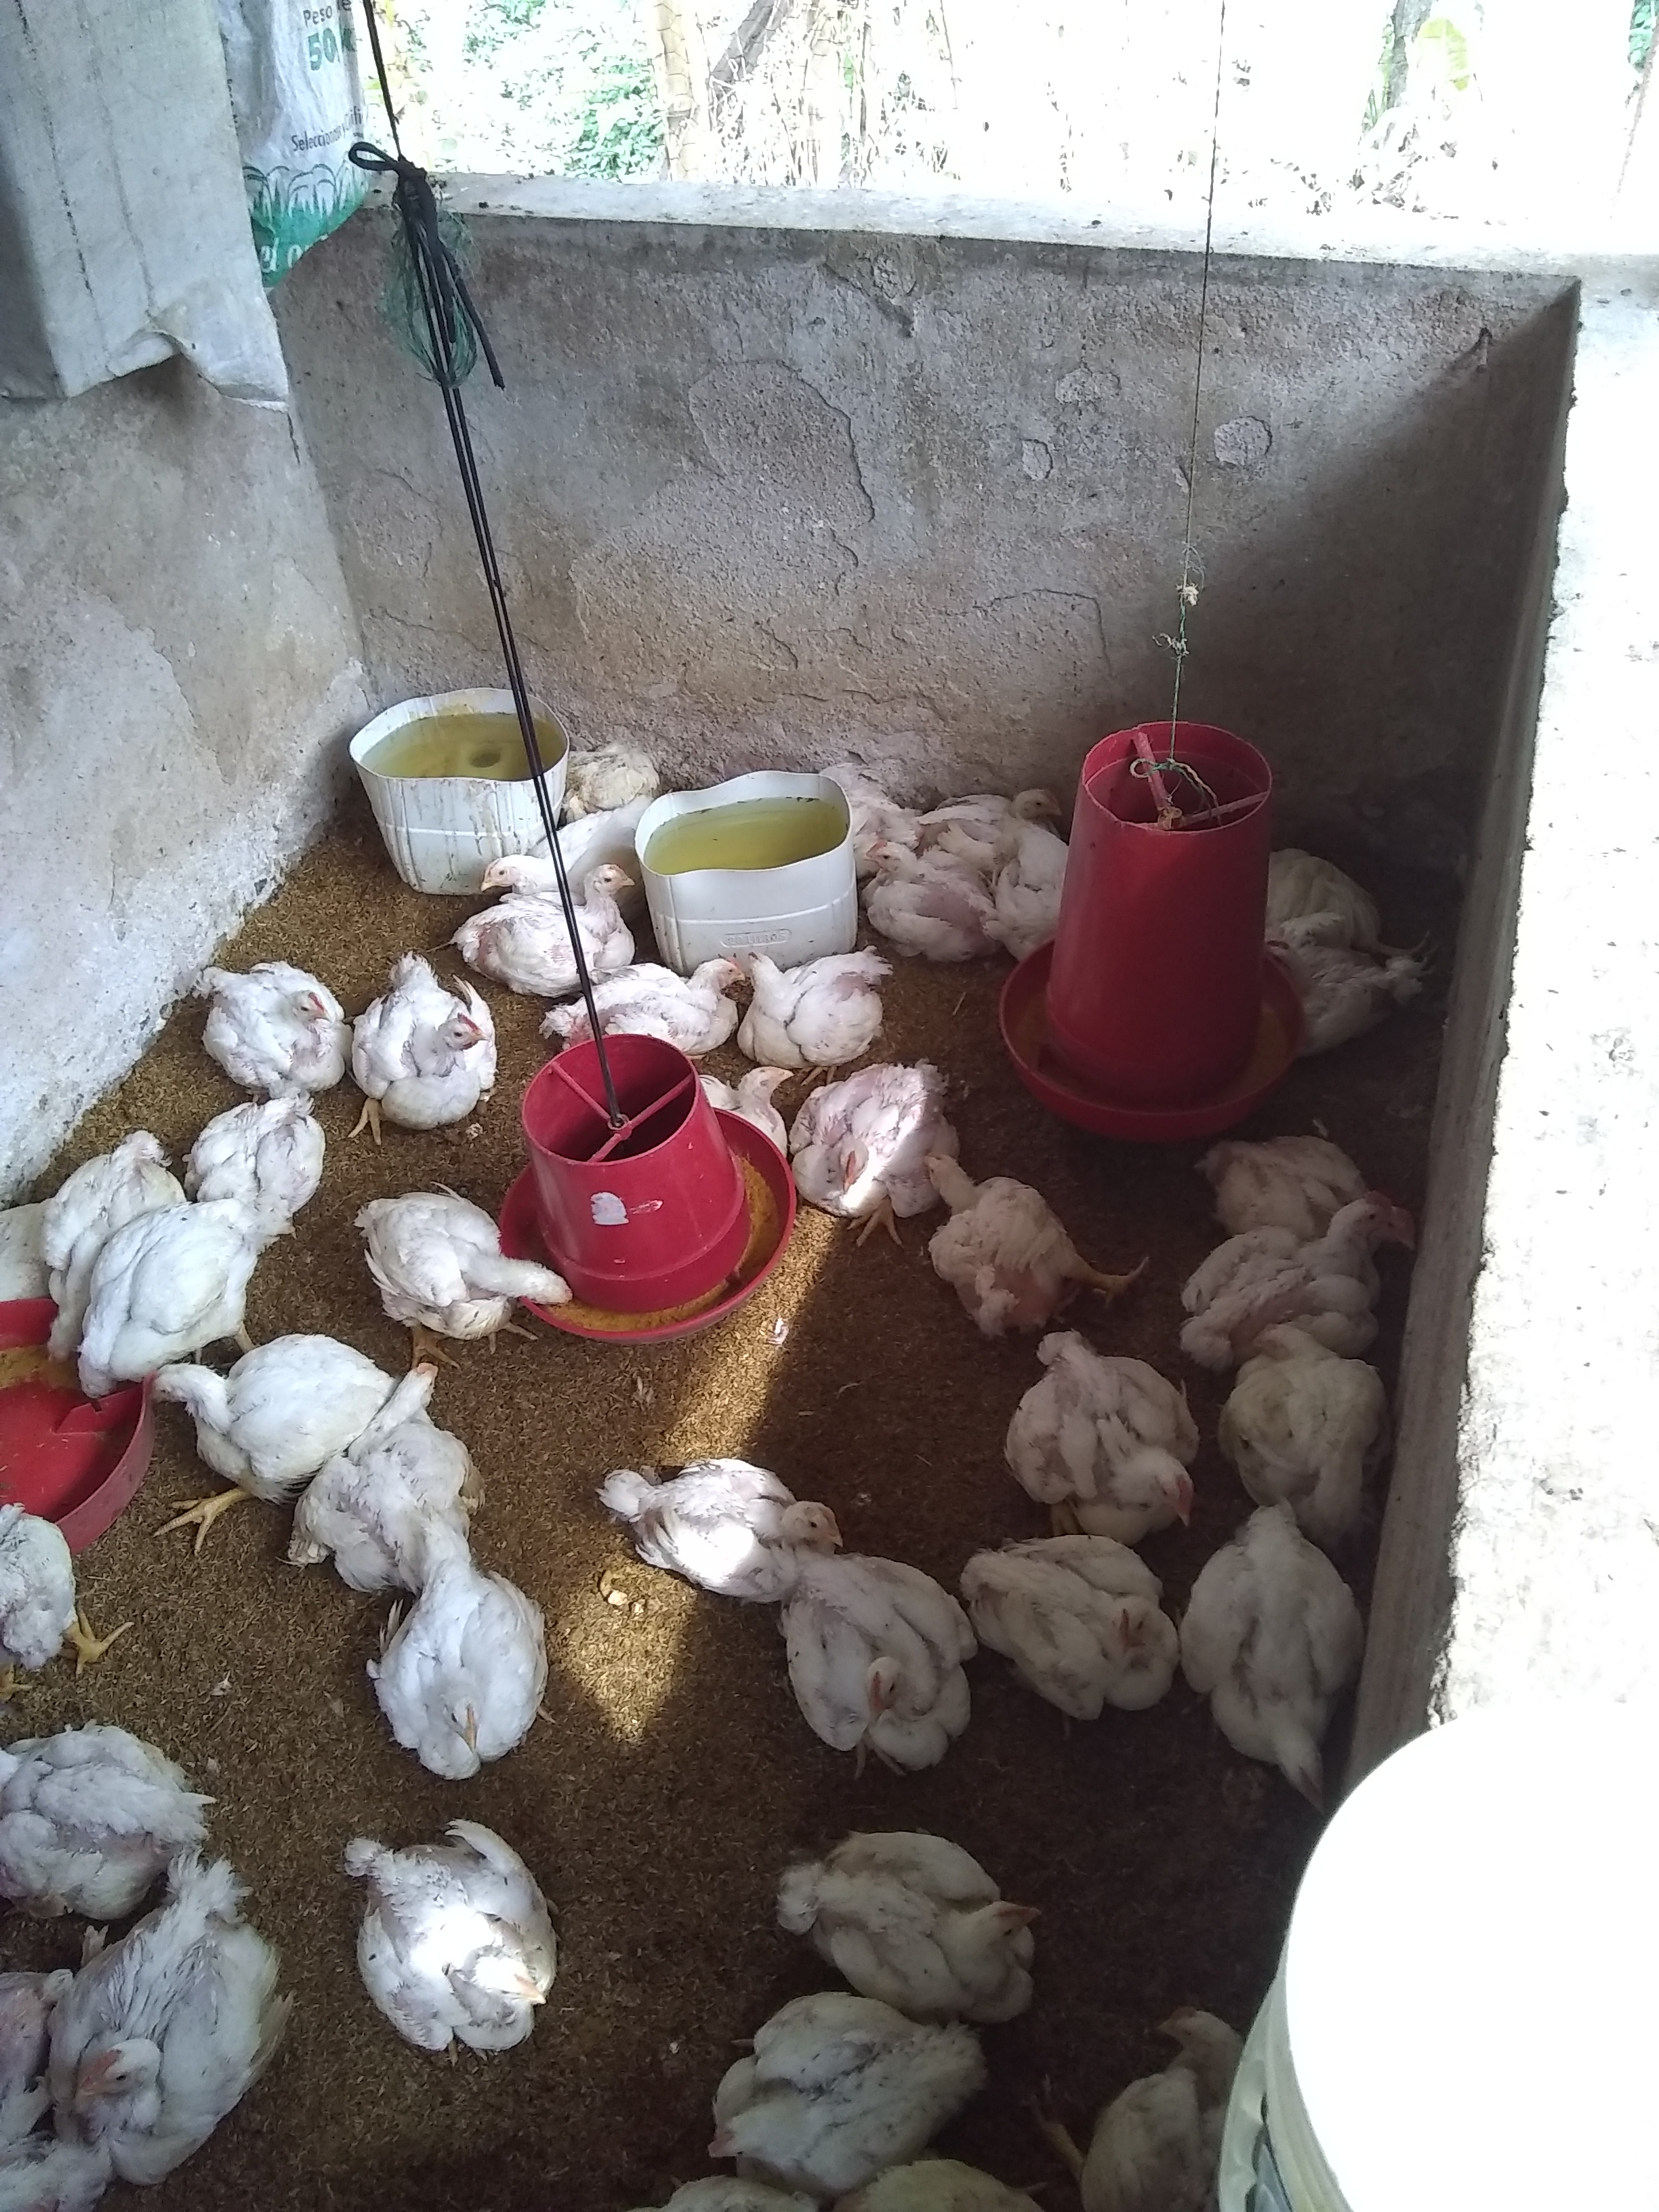Pollos: (59, 1876, 288, 2167), (701, 1991, 972, 2168), (357, 1818, 558, 2055), (974, 1534, 1180, 1716), (1209, 1519, 1335, 1813), (816, 1832, 1040, 1984), (601, 1456, 842, 1594), (80, 1198, 254, 1388), (141, 1336, 336, 1498), (1035, 1332, 1199, 1524), (802, 1564, 957, 1761), (1082, 2006, 1241, 2191), (394, 1573, 533, 1775), (373, 1193, 570, 1327), (922, 1150, 1073, 1308), (1236, 1325, 1371, 1486), (1220, 1195, 1384, 1327), (343, 1362, 446, 1561), (357, 963, 486, 1116), (802, 1068, 934, 1195), (206, 970, 350, 1078), (742, 946, 885, 1050), (206, 1087, 324, 1198), (863, 834, 978, 937), (601, 954, 741, 1028), (575, 864, 641, 939), (472, 843, 549, 902), (992, 784, 1068, 834), (720, 1062, 796, 1106)
